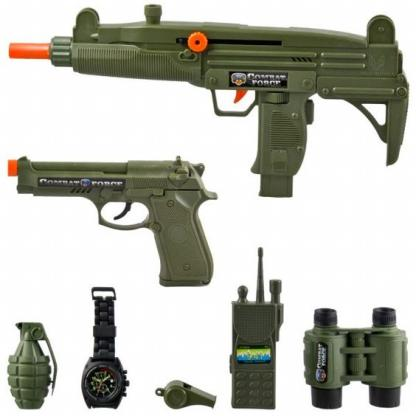Grenade: (6, 320, 58, 411)
Gun: (4, 3, 409, 198)
Pistol: (6, 152, 218, 288)
